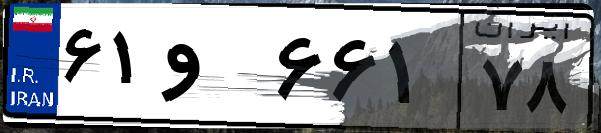1: (385, 28, 445, 110), (110, 28, 158, 98)
6: (270, 28, 330, 110), (330, 28, 385, 110), (57, 26, 110, 100)
7: (475, 38, 525, 113)
8: (525, 38, 570, 115)
و: (158, 20, 270, 120)
